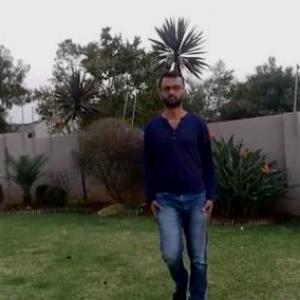follow: (154, 66, 212, 299)
